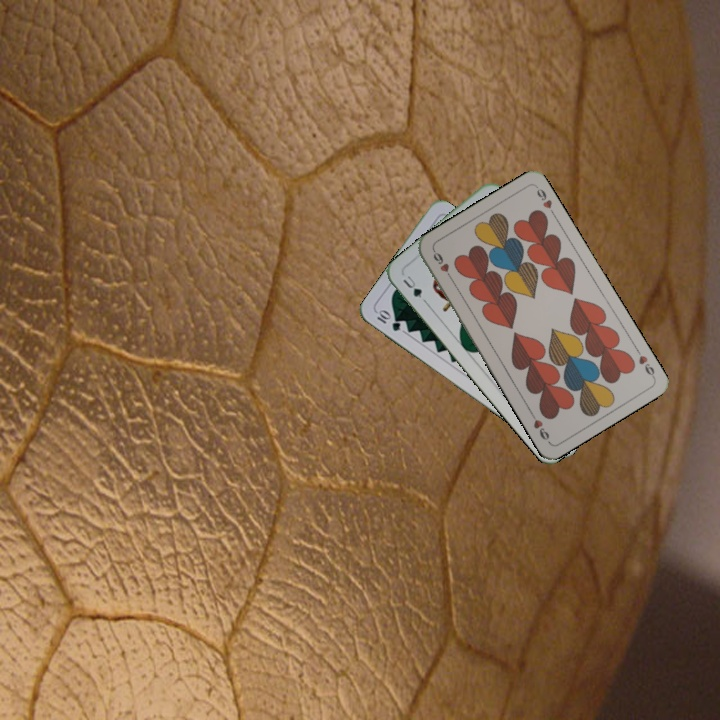G10: (372, 306, 403, 334)
GU: (399, 270, 429, 305)
H9: (429, 246, 455, 283), (631, 344, 657, 380)
